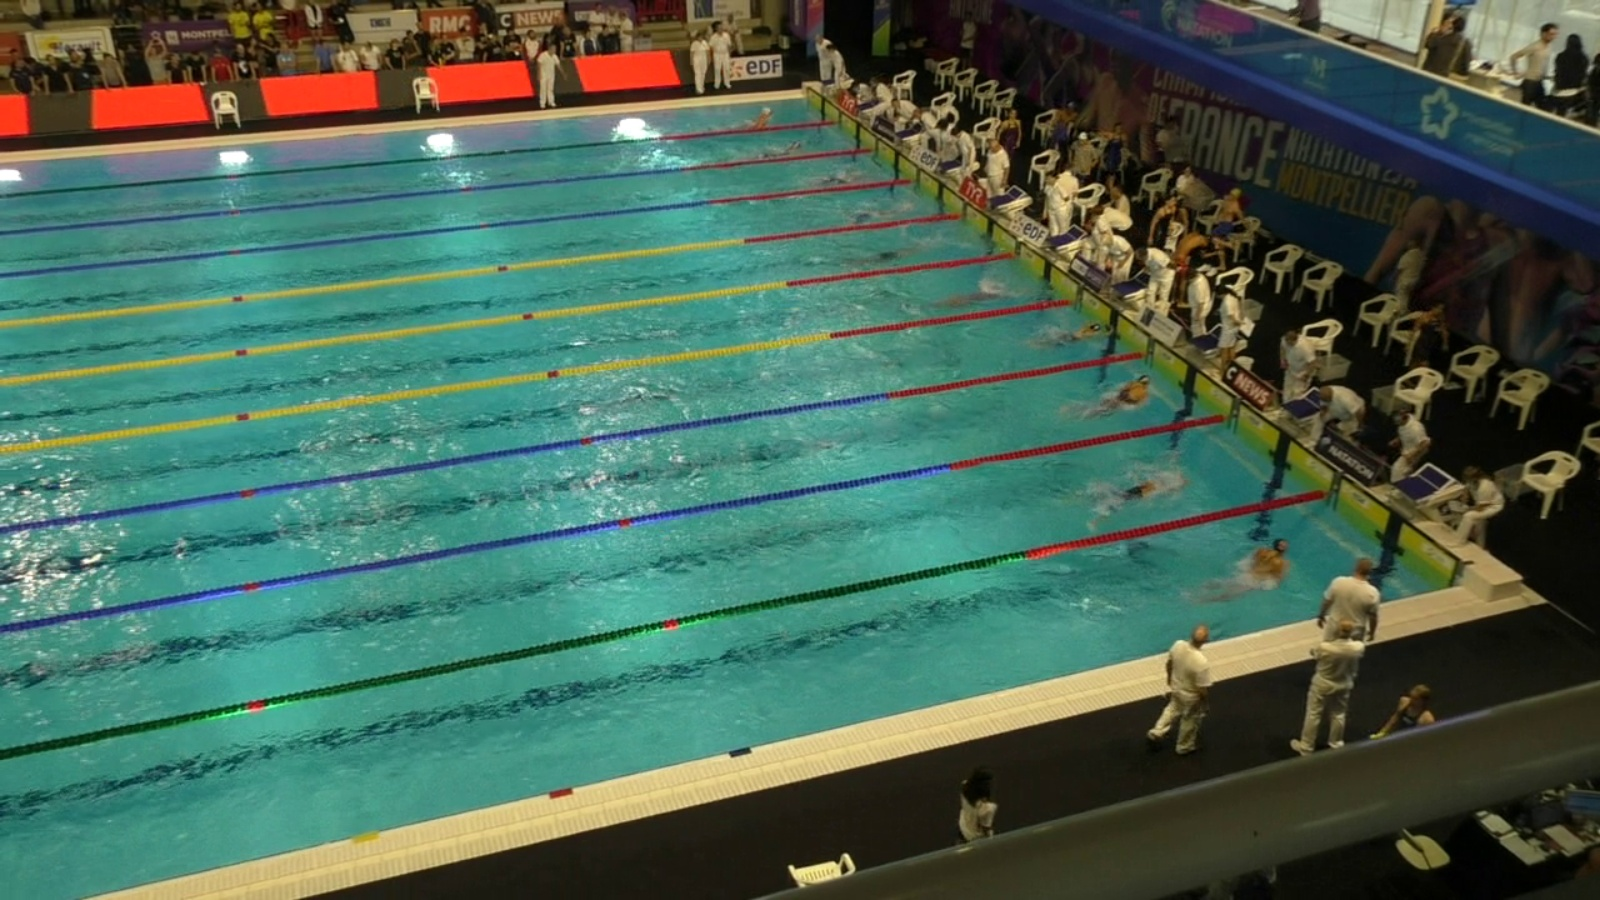swimmerwdd: (1186, 536, 1293, 609), (1067, 465, 1195, 524), (1051, 375, 1155, 423), (1025, 315, 1118, 353), (834, 238, 958, 265), (911, 285, 1021, 311), (699, 105, 781, 135), (787, 165, 879, 191), (833, 199, 919, 221), (730, 141, 807, 163)
